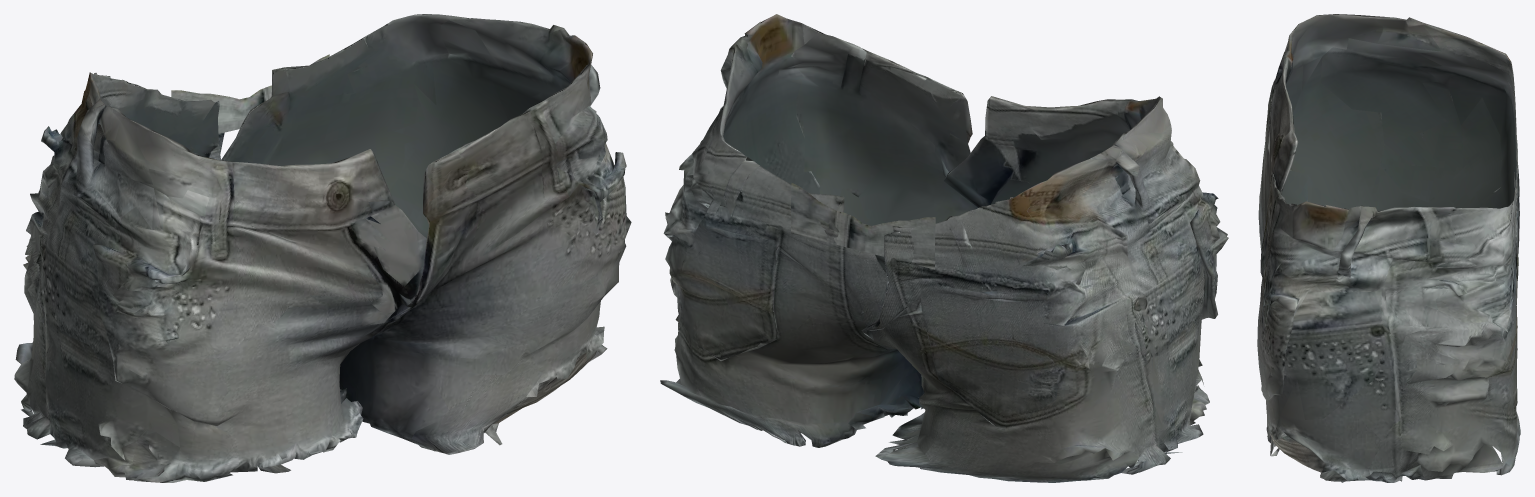
3 views of the same model, side by side, from view 1: azimuth 30°, elevation 25°; view 2: azimuth 150°, elevation 25°; view 3: azimuth 270°, elevation 25° (orthographic). The views are drawn at different scales.
Visible parts, largest first — view 1: Roupa_008, Rear waist repair; view 2: Roupa_008, Rear waist repair; view 3: Roupa_008.
Boxes of the visible parts, box(x1,y1,x2,y2) form: Roupa_008: box(14, 14, 631, 482); Rear waist repair: box(171, 54, 329, 133); Roupa_008: box(660, 14, 1228, 482); Rear waist repair: box(791, 183, 935, 269); Roupa_008: box(1257, 14, 1520, 482).
Bounding box in the file's own units: 0.3706 × 0.2439 × 0.1871.
2 materials, 2 textured.
